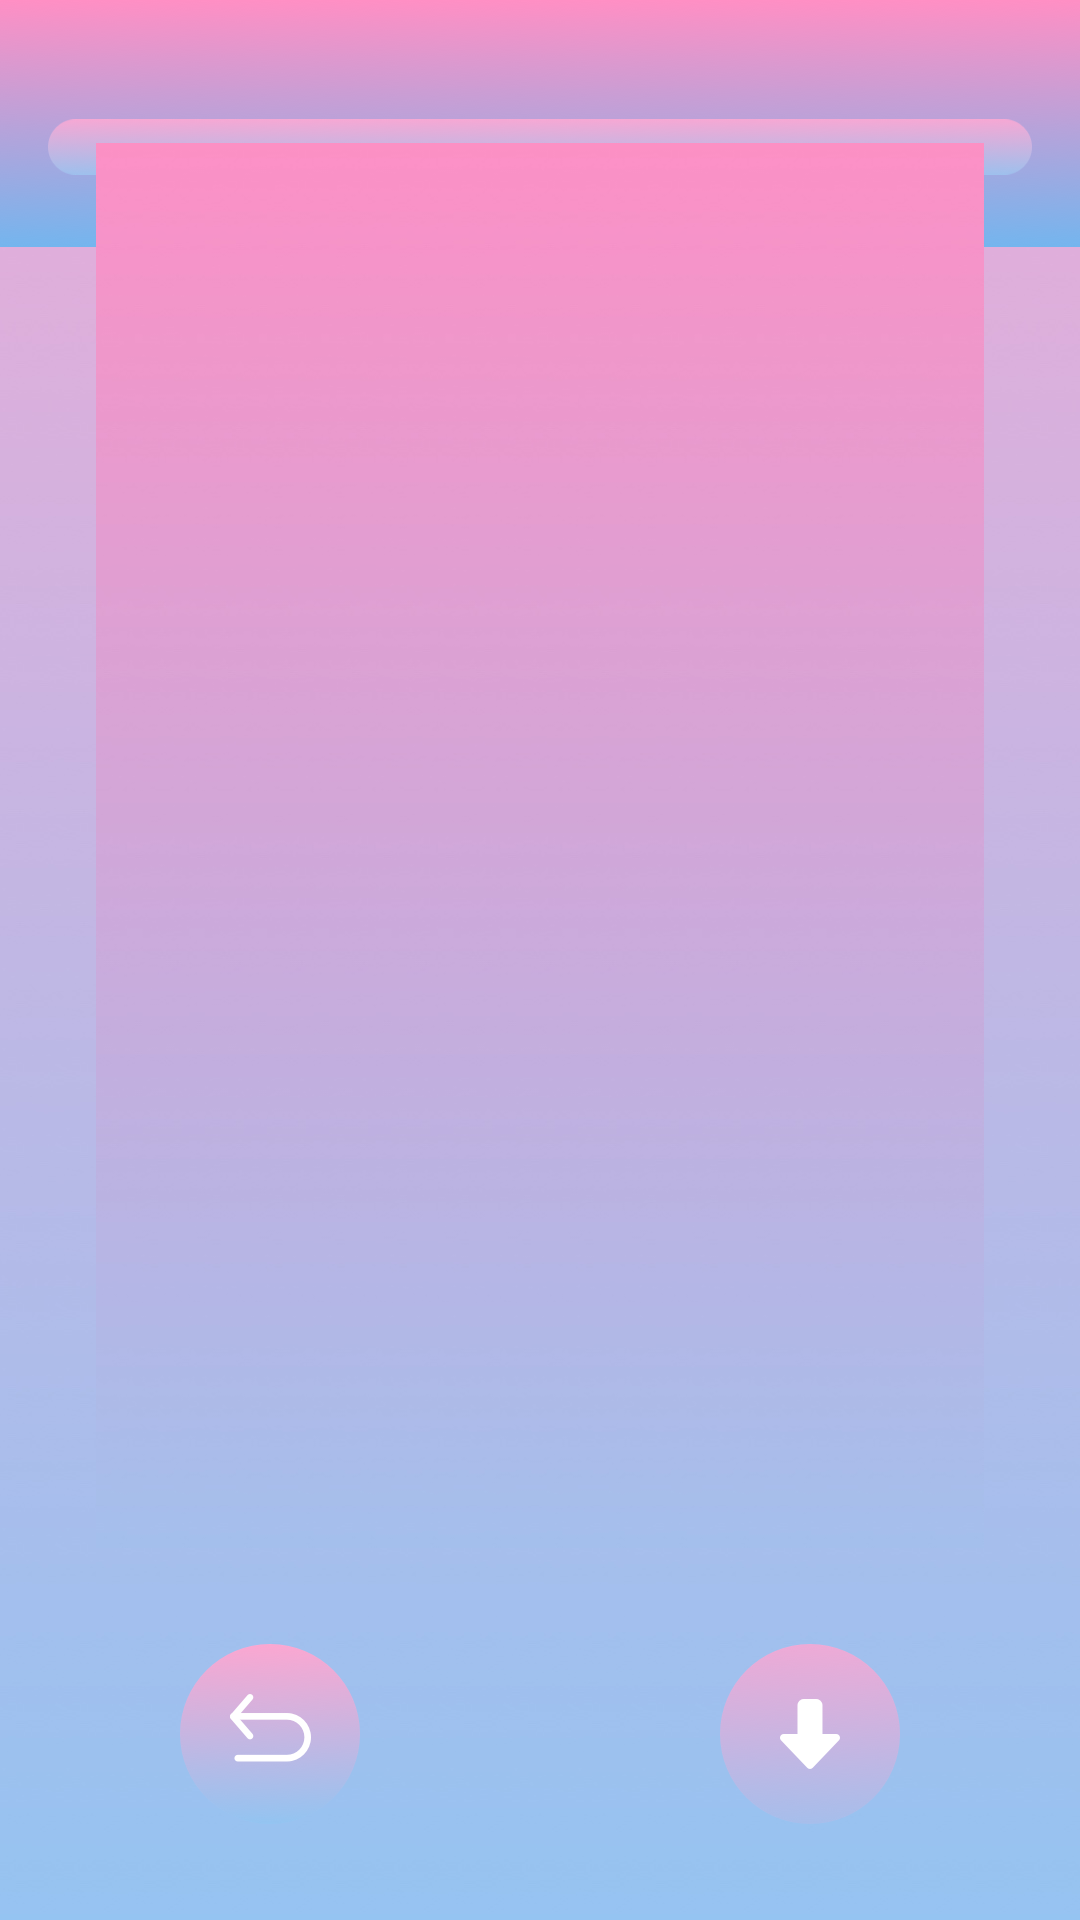

Named icons in this screenshot (1080×1920) and their centers, [x,y]:
face back: [270,1703]
face download: [810,1710]
